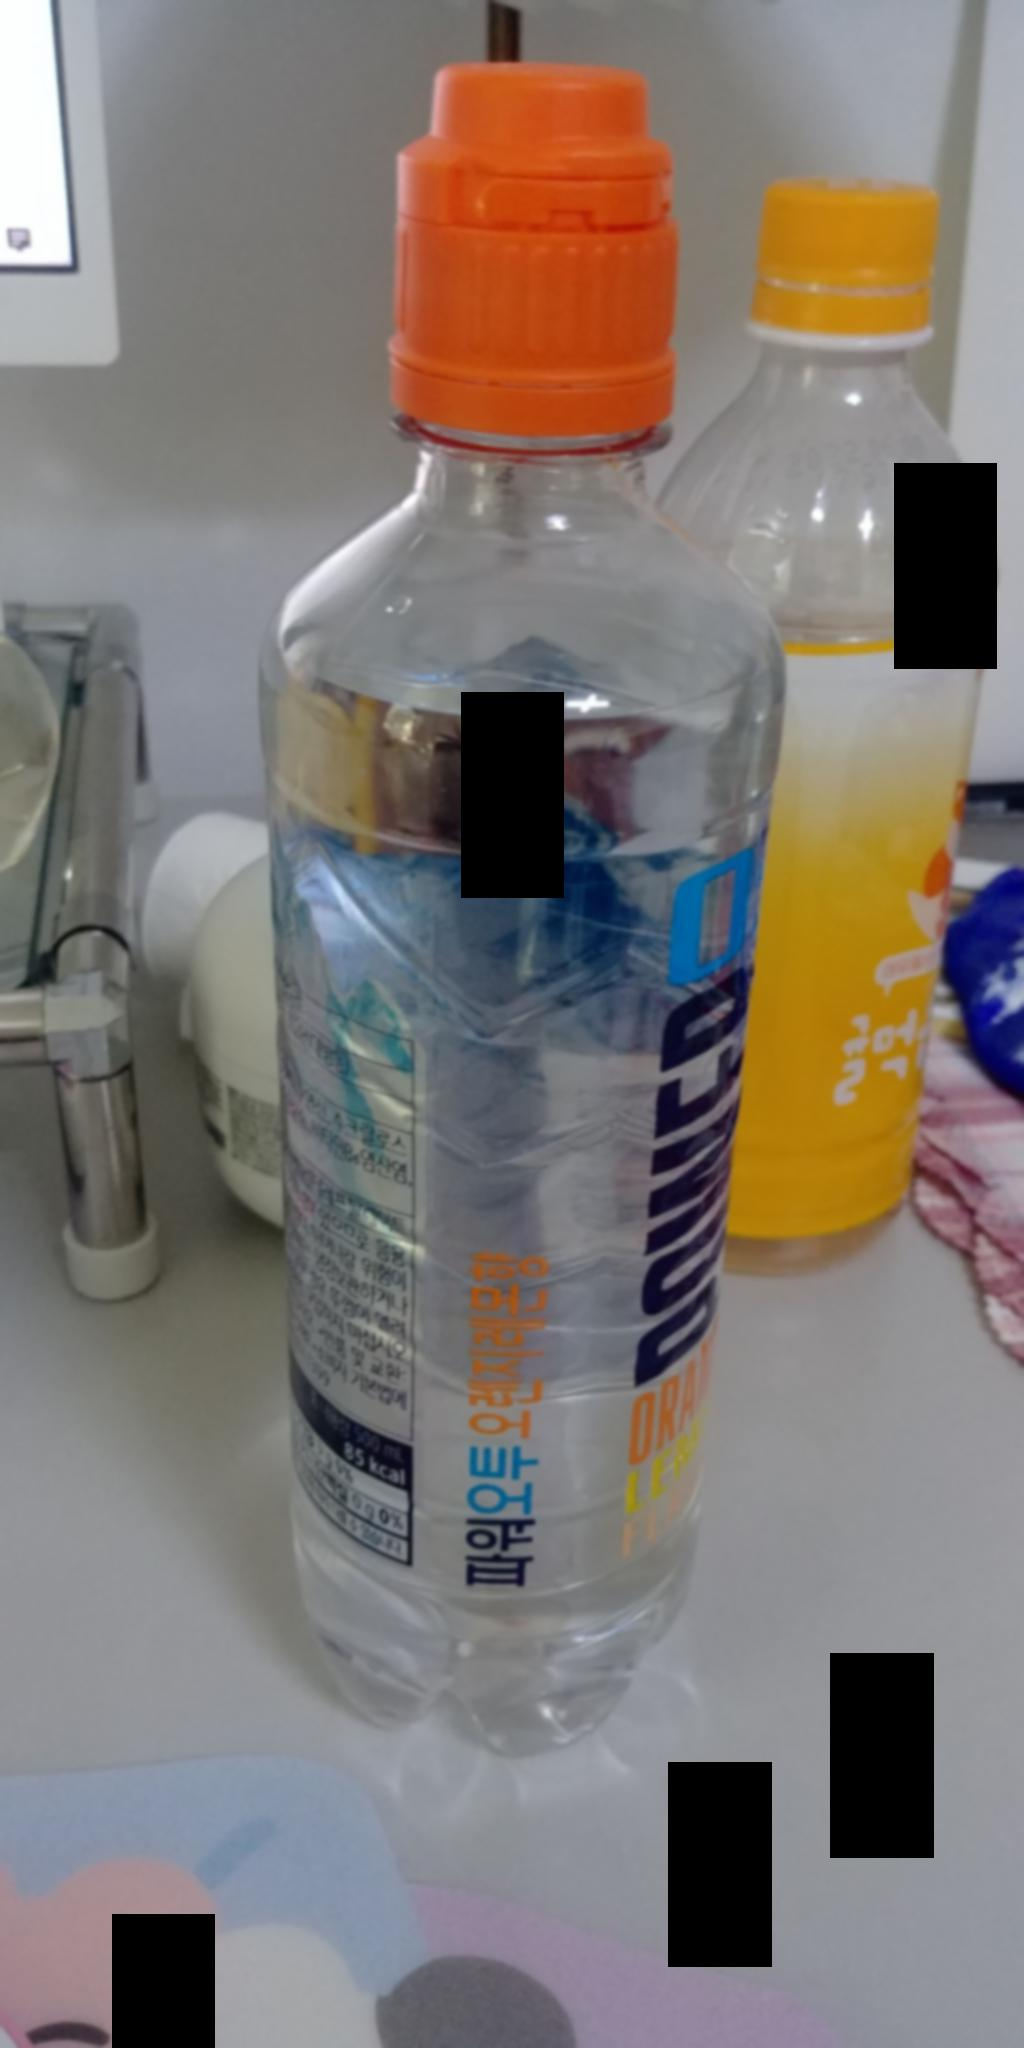powerO2_orange: (223, 50, 808, 1814)
